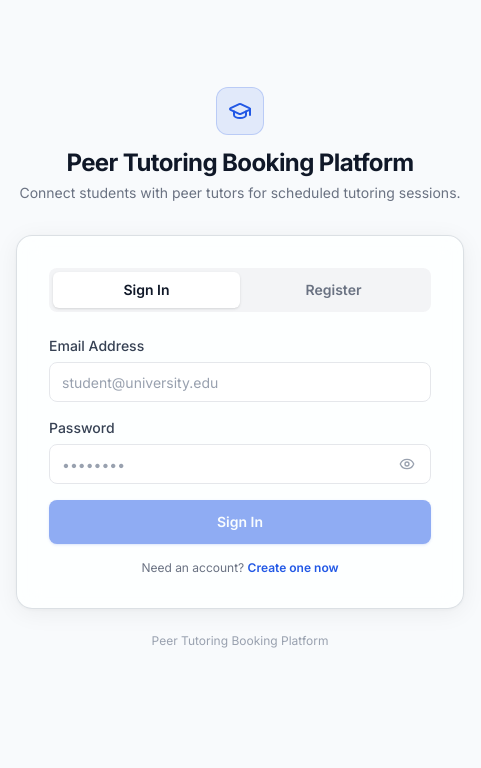
Test: LoginPage — register form validation › shows a password error when password is too short
# Switch to Register tab
Click the button "Register" at point(334, 290), box left=240, top=272, right=427, bottom=308
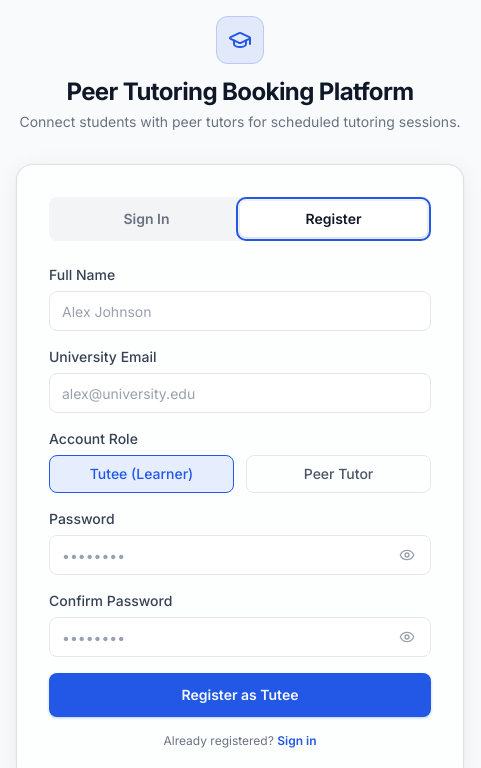
# Fill in name and email but use a too-short password
Type "Test User" into the field labelled "Full Name" at point(240, 311), box left=49, top=291, right=431, bottom=331
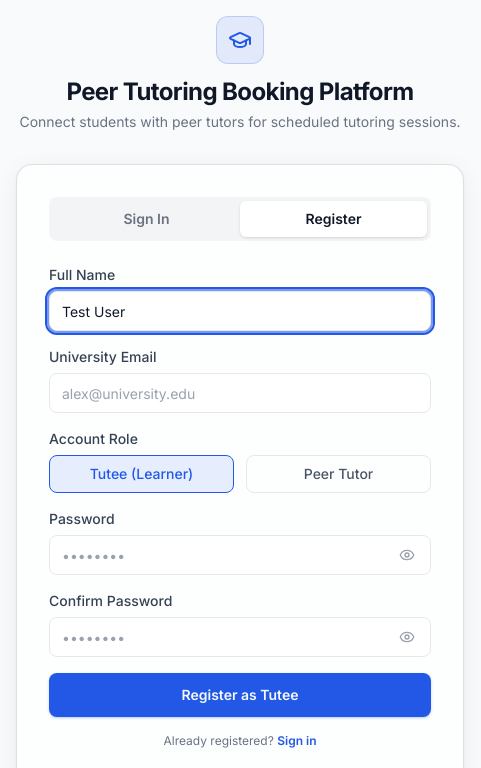
Type "test@university.edu" into the field labelled "University Email" at point(240, 393), box left=49, top=373, right=431, bottom=413
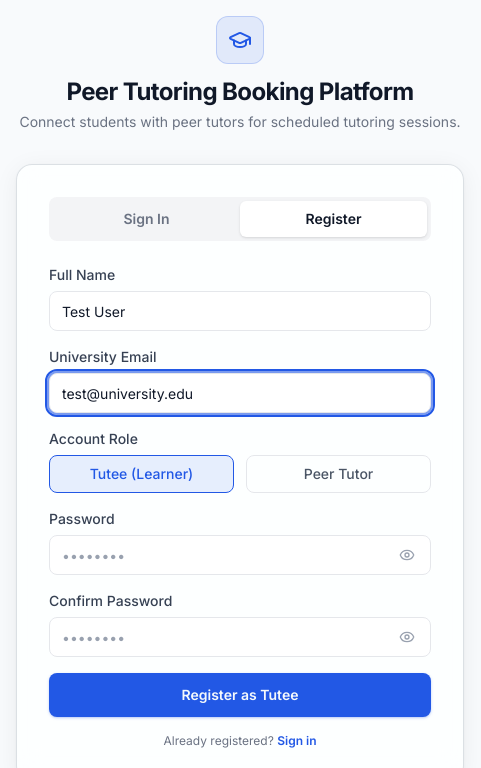
Type "abc" into the password field labelled "Password" at point(240, 555), box left=49, top=535, right=431, bottom=575
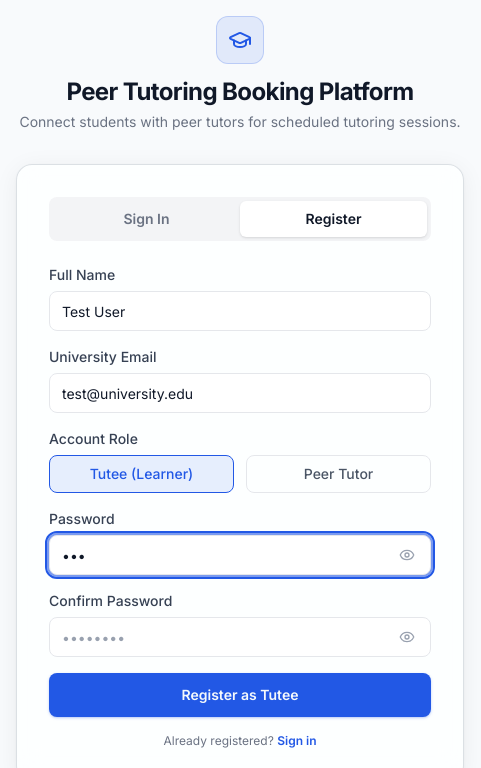
Click the button "Register as Tutee" at point(240, 695), box left=49, top=673, right=431, bottom=717
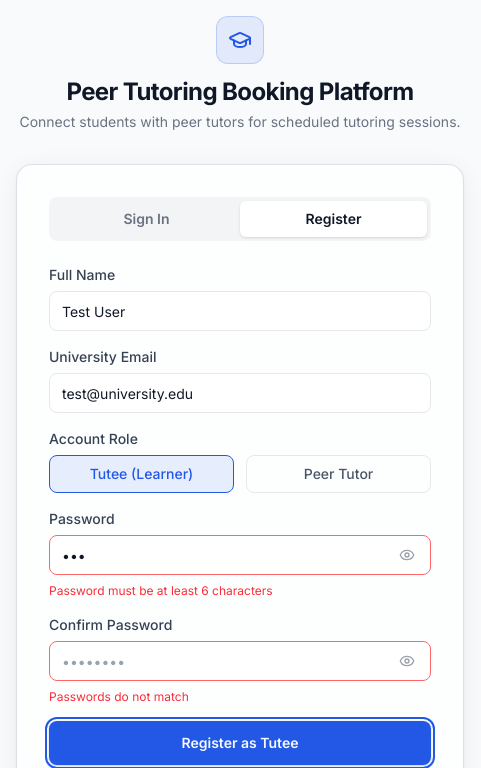
expect the text "Password must be at least 6 characters" is shown: met, box left=49, top=583, right=273, bottom=598
